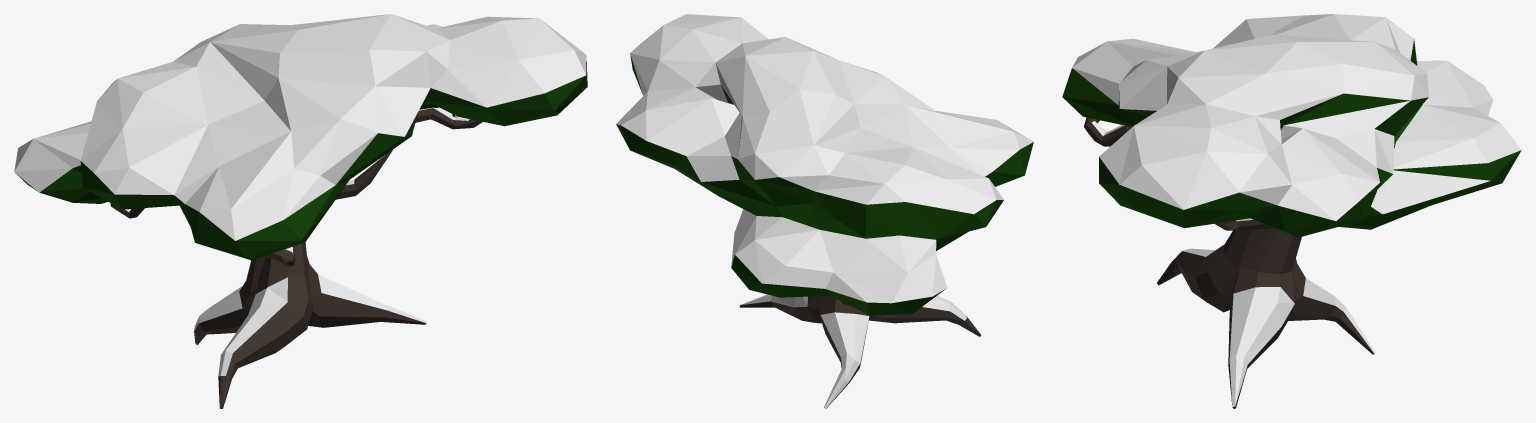
The model's file is Tree_2_Winter.fbx.
3 renders of one model, left to right at view 1: azimuth 30°, elevation 25°; view 2: azimuth 150°, elevation 25°; view 3: azimuth 270°, elevation 25°, orthographic. The views are drawn at different scales.
Visible parts, largest first — view 1: Tree_2_Winter; view 2: Tree_2_Winter; view 3: Tree_2_Winter.
Boxes of the visible parts, <box> form: Tree_2_Winter: <box>14,14,587,408</box>; Tree_2_Winter: <box>616,14,1033,408</box>; Tree_2_Winter: <box>1062,14,1521,408</box>.
Bounding box in the file's own units: 971 × 683 × 799.
